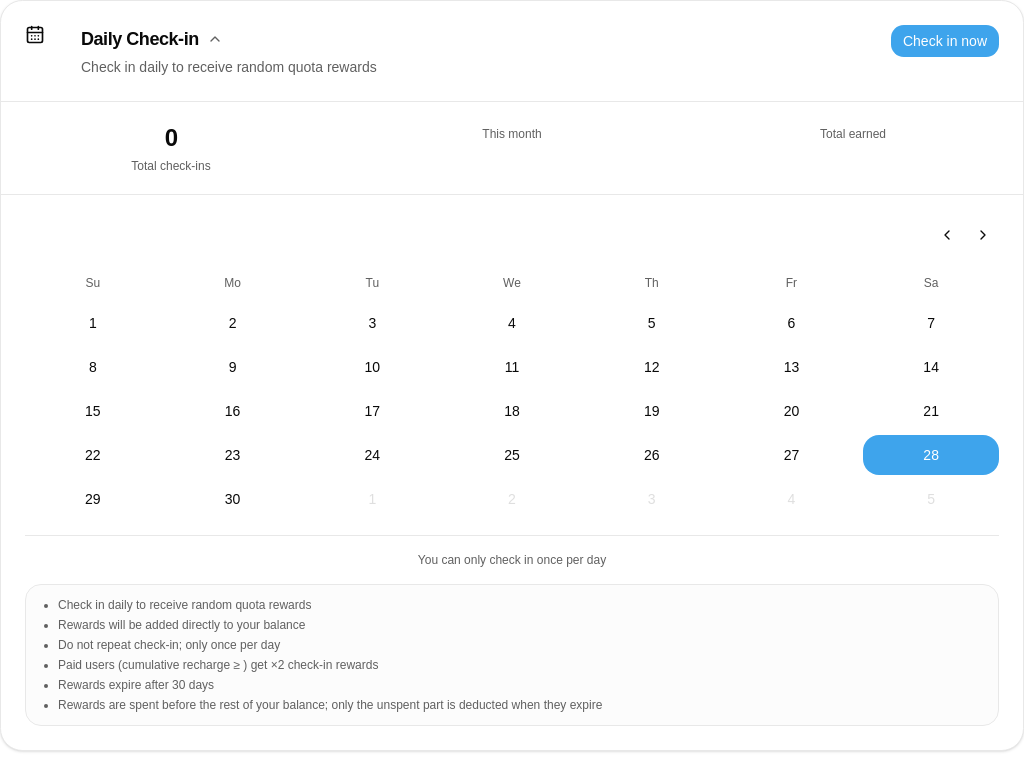
check-in reward result › a reward that expires only when unused shows the rolling expiry rule
The width and height of the screenshot is (1024, 768).
Click the button "Check in now". click: click(945, 41)
box: x1=891 y1=25 x2=999 y2=57
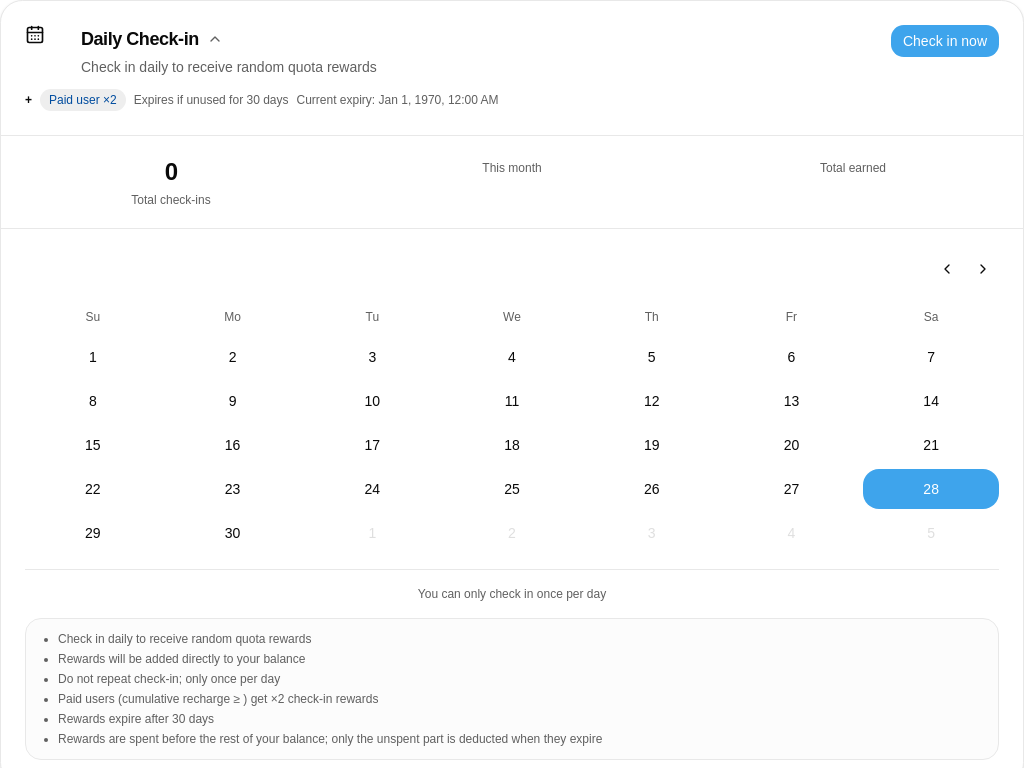
Expected: the text "Expires if unused for 30 days" is shown, x1=134 y1=92 x2=288 y2=108
